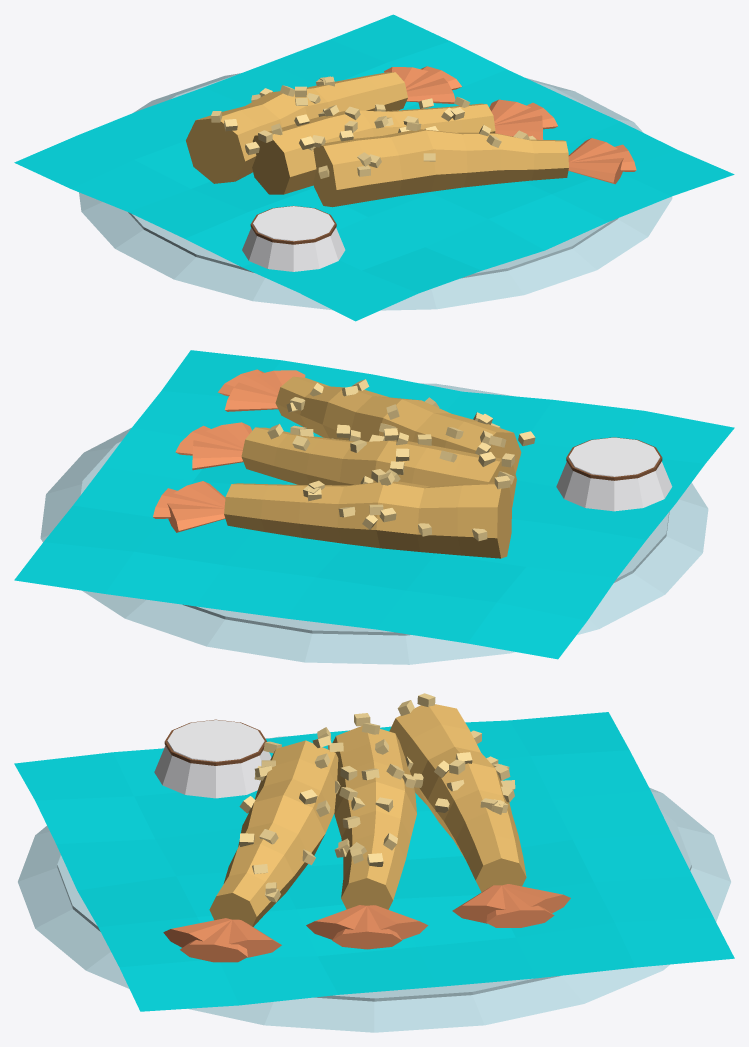
File: Shrimp_Tempura_Plate.fbx
3 views of the same model, one above another, from view 1: azimuth 30°, elevation 25°; view 2: azimuth 150°, elevation 25°; view 3: azimuth 270°, elevation 25° (orthographic). The views are drawn at different scales.
Parts seen in each view (by area): view 1: Shrimp_Tempura_Plate; view 2: Shrimp_Tempura_Plate; view 3: Shrimp_Tempura_Plate.
Boxes of the visible parts, box(x1,y1,x2,y2) form: Shrimp_Tempura_Plate: box(14, 14, 734, 321); Shrimp_Tempura_Plate: box(14, 350, 734, 664); Shrimp_Tempura_Plate: box(14, 693, 734, 1032).
Size of the model in its own units: 0.8184 by 0.1337 by 0.8184.
